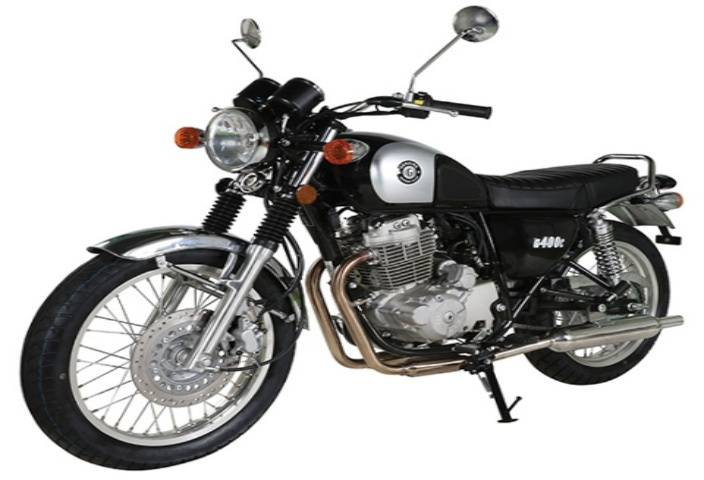motorcycle: (14, 2, 689, 465)
